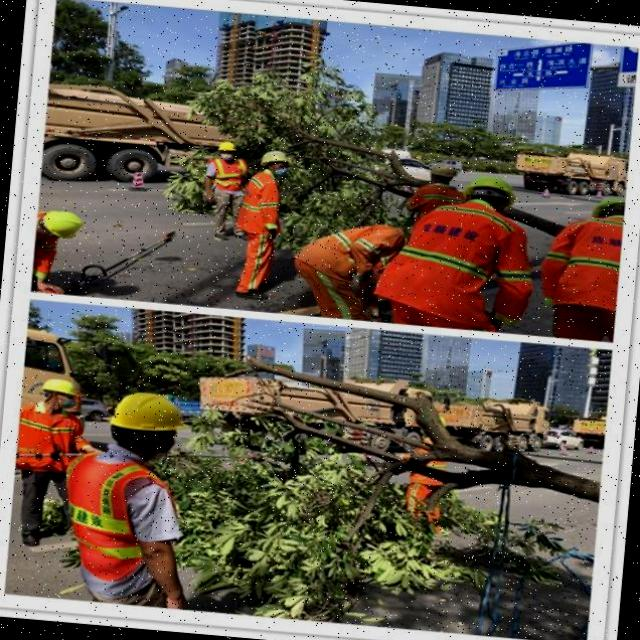fallen_object: (142, 343, 611, 640), (159, 43, 587, 275)
